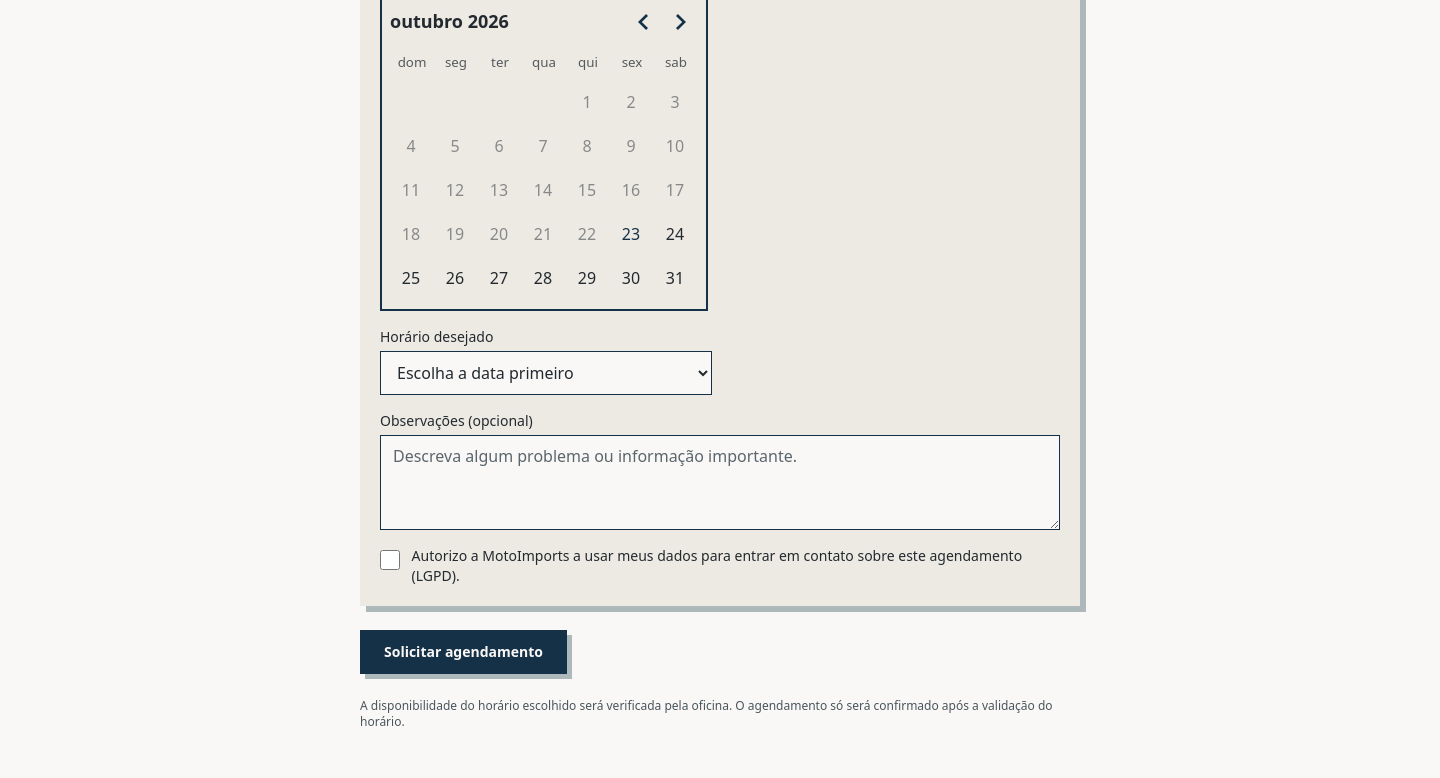
Pós-venda · agendamento › enviar vazio mostra todos os erros e não confirma
The image size is (1440, 778).
(page scrolled)
Click the button "Solicitar agendamento" at (464, 652), box [360,630,567,674]
(page scrolled)
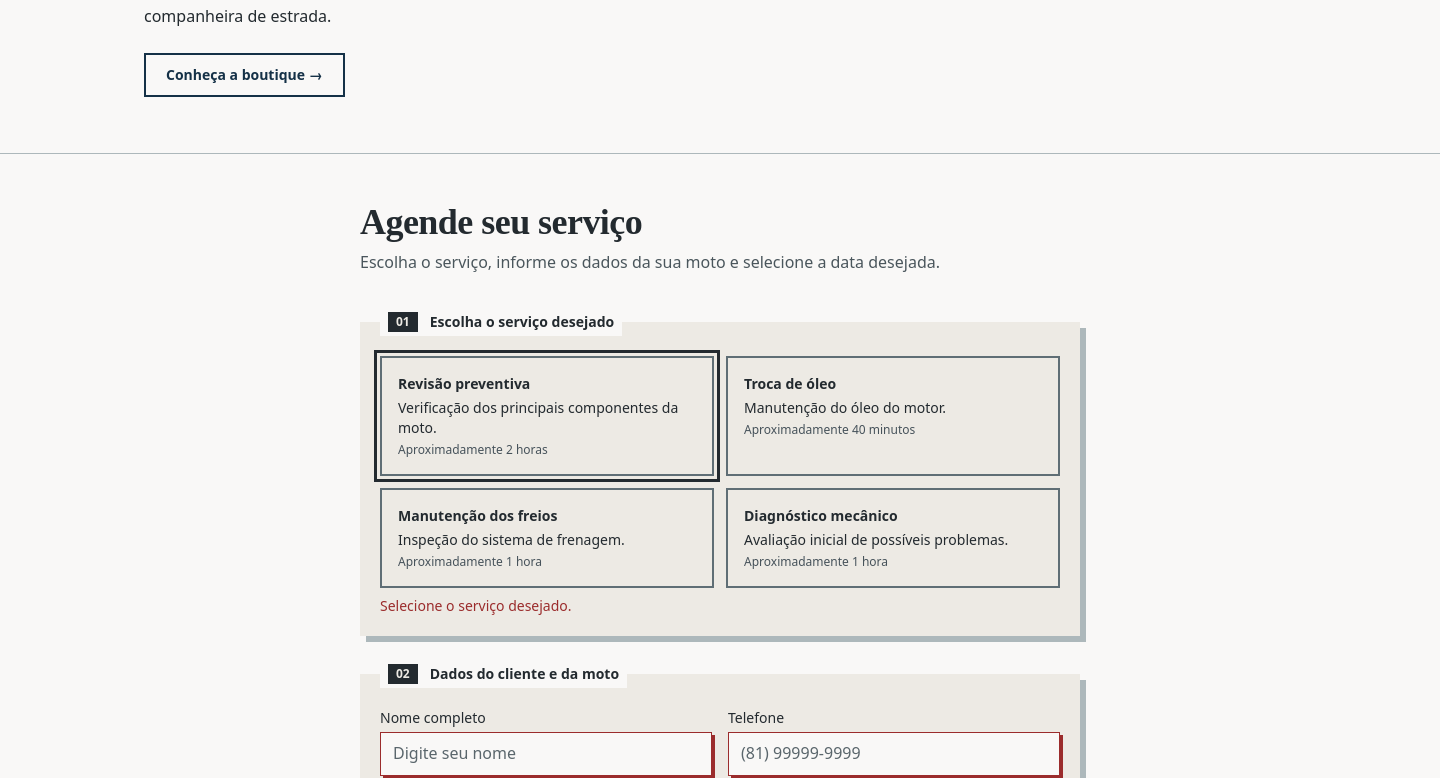
Result: the text "Selecione o serviço desejado." is shown at [380,596,572,615]
